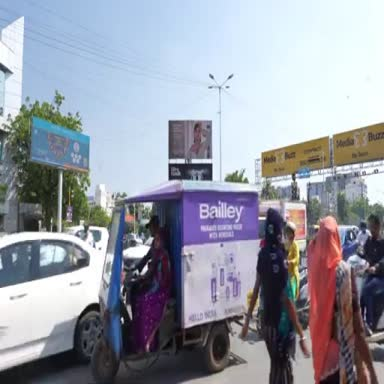Car: (0, 233, 104, 370), (123, 237, 153, 267), (339, 226, 358, 260), (89, 226, 109, 254), (129, 233, 143, 245)
